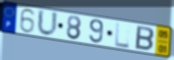6: (19, 7, 37, 34)
8: (66, 15, 83, 41)
9: (88, 18, 105, 44)
B: (134, 25, 155, 53)
L: (115, 22, 131, 50)
U: (36, 9, 59, 39)
